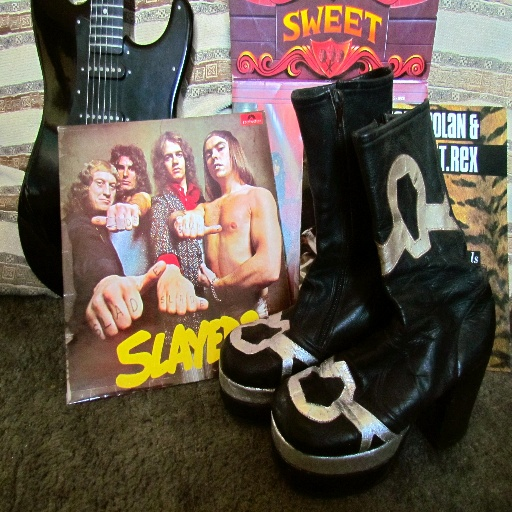hand: (77, 270, 145, 343), (156, 268, 207, 315), (90, 201, 141, 232), (172, 209, 223, 239), (196, 259, 217, 291)
